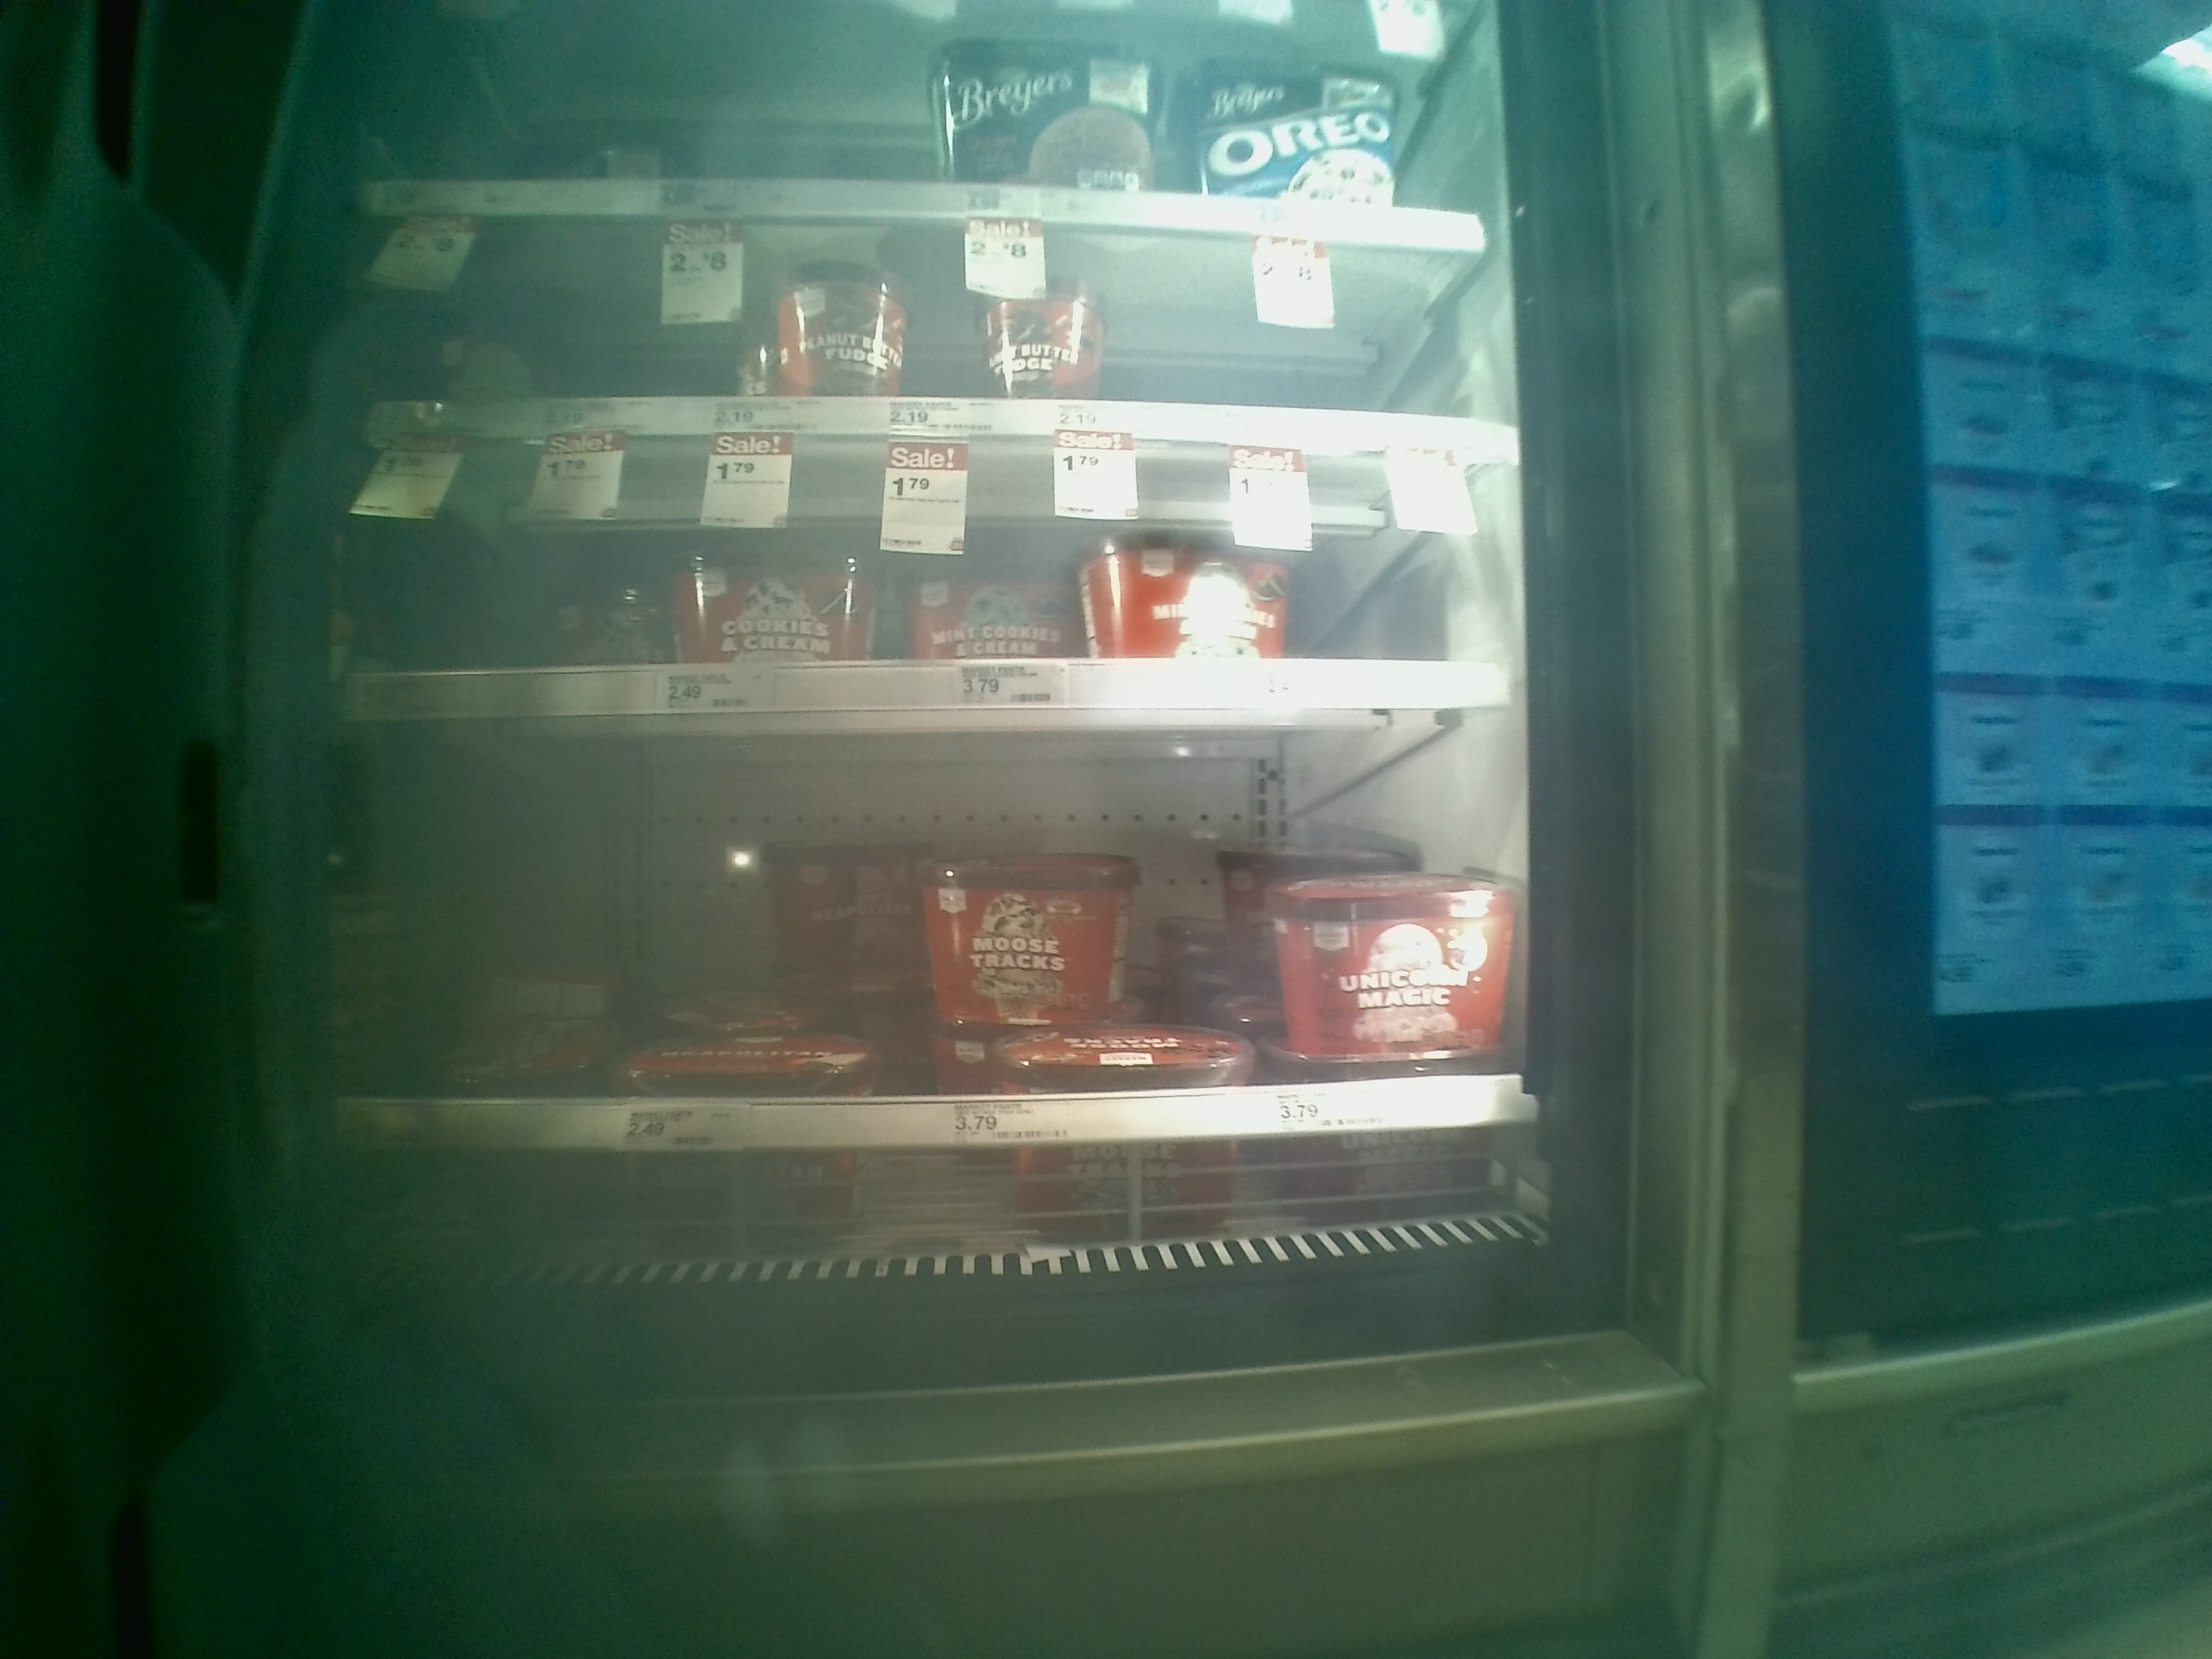ice-cream-shelf: (368, 739, 1508, 1227), (366, 446, 1503, 727)
